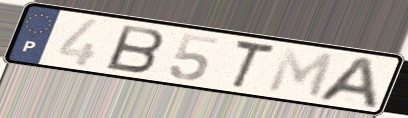4: (53, 17, 99, 69)
5: (166, 31, 223, 82)
A: (312, 55, 380, 112)
B: (103, 22, 167, 75)
M: (264, 46, 337, 101)
T: (230, 37, 278, 92)
